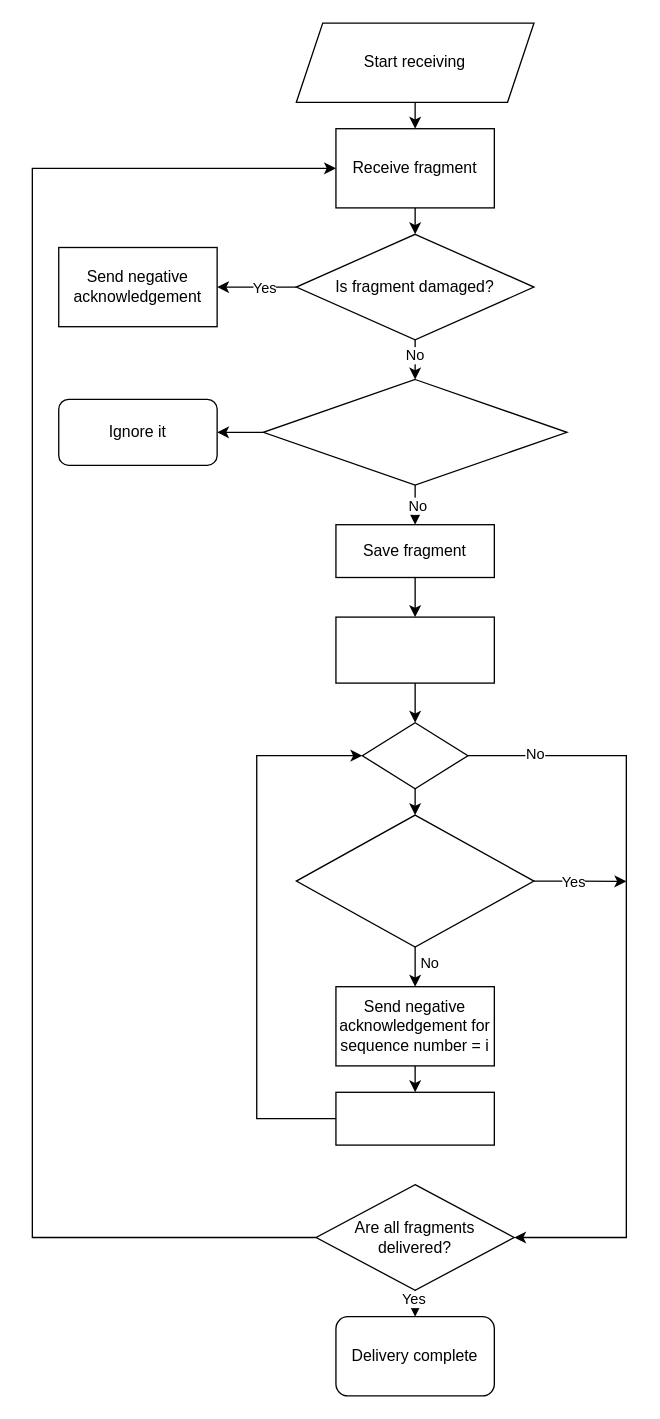
Some shapes in this 660 by 1419 pixel diagram are drawn without their labels. Here are the shapes that lost their labels. From the top down, the centre of each, then its label:
At point (414, 431): "Was this fragment received before?".
At point (414, 649): "i = fragment sequence number -1".
At point (414, 755): "i >= 0".
At point (414, 880): "Is fragment with sequence number = i delivered".
At point (414, 1118): "Decrease i by 1".
